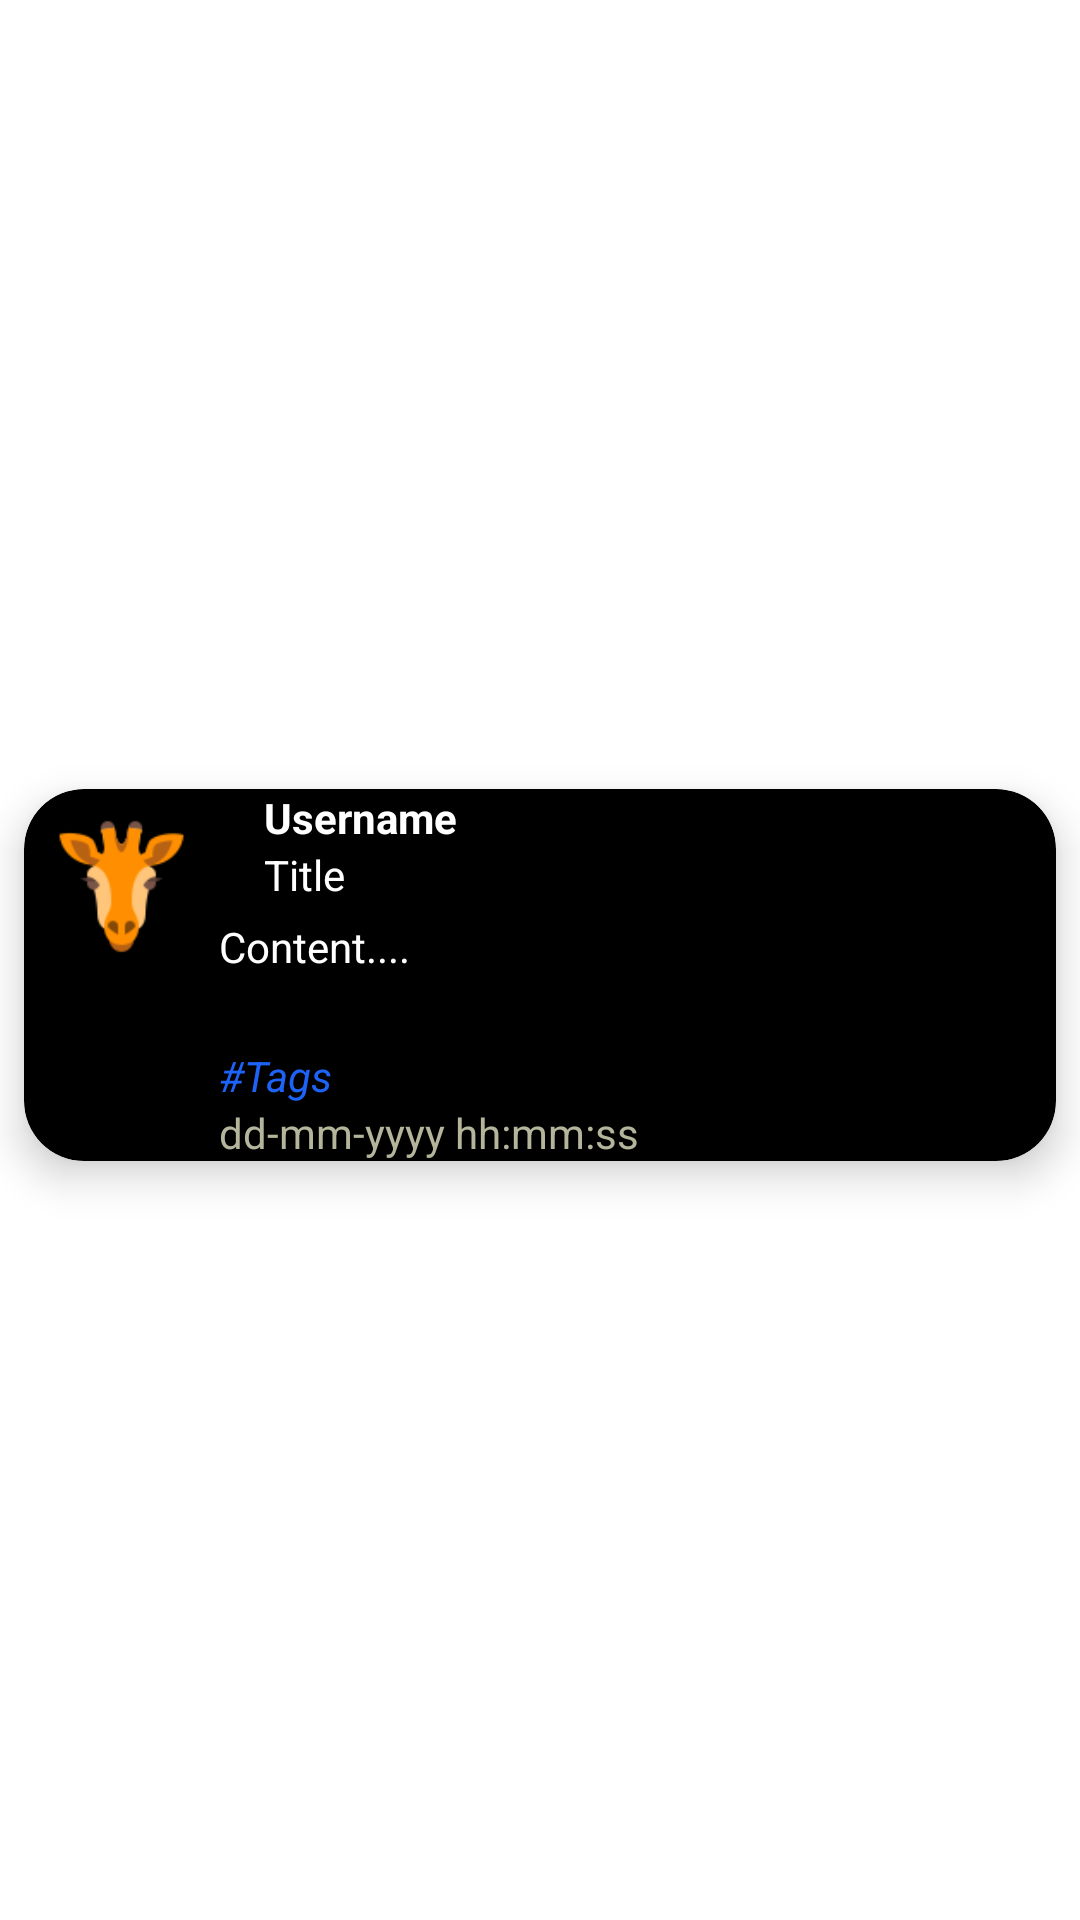

Icon click points for this 1080px x 1920px phone screenshot, format (x,y):
home giraffe: (121,886)
